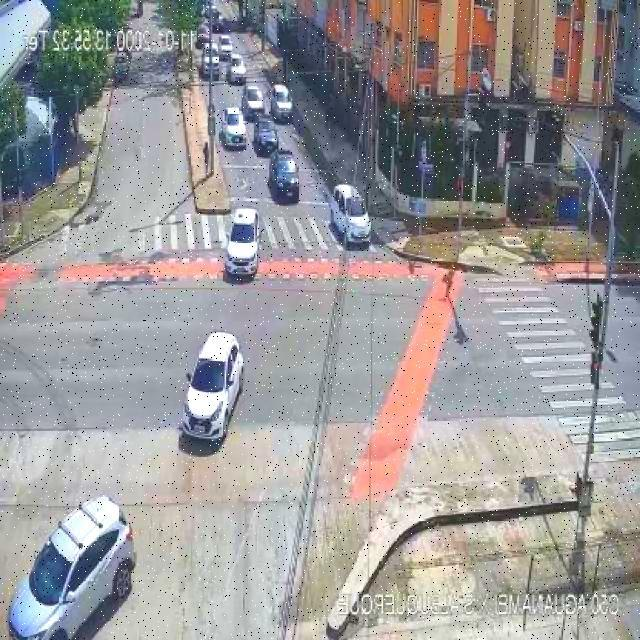Car: (8, 494, 138, 638), (181, 330, 244, 444), (329, 183, 372, 248), (224, 208, 262, 280), (268, 151, 301, 201), (220, 106, 248, 149), (253, 117, 279, 154), (270, 84, 292, 120), (242, 84, 265, 118), (201, 50, 221, 80), (113, 52, 132, 83), (228, 55, 248, 84), (196, 24, 212, 47), (218, 35, 234, 57), (203, 2, 219, 19)
